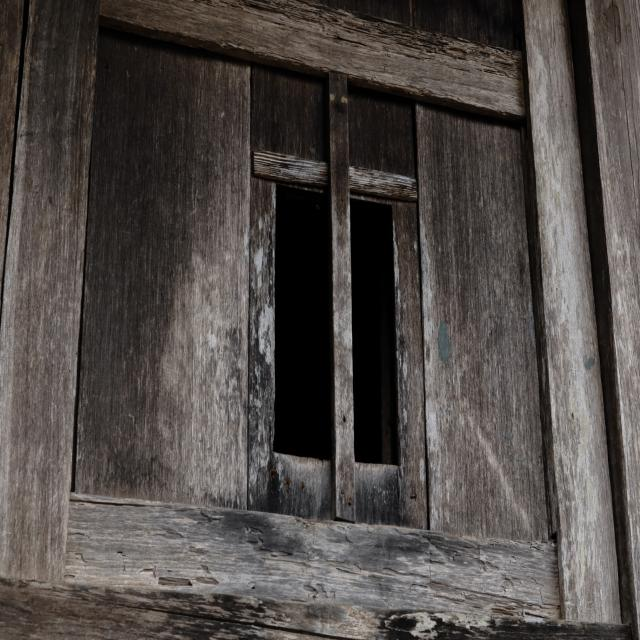Tembok Bangunan: (2, 3, 639, 638)
